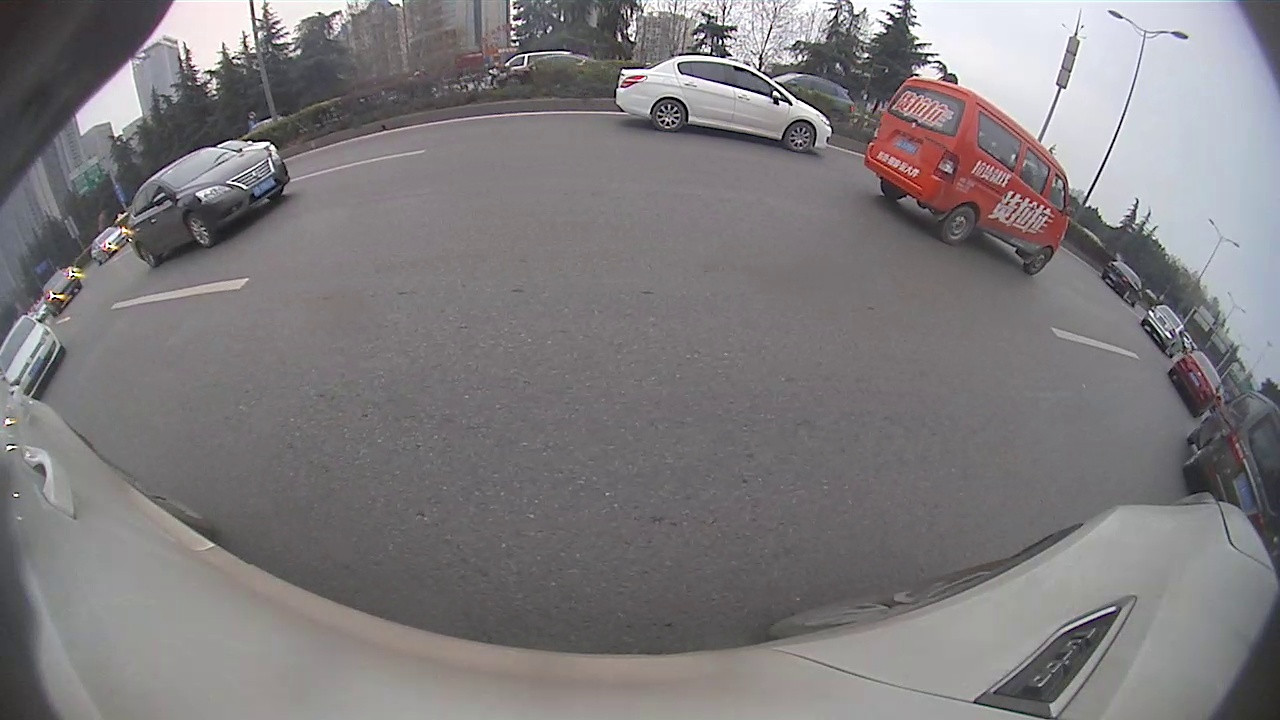car: (861, 73, 1073, 276), (612, 54, 835, 154), (126, 146, 293, 267), (1181, 391, 1277, 550), (3, 314, 62, 402), (1169, 345, 1223, 417), (1139, 303, 1187, 359), (1102, 258, 1144, 309)
front: (782, 121, 816, 155), (186, 209, 213, 251), (1023, 247, 1052, 277)
rear: (939, 205, 977, 247), (650, 101, 686, 133), (137, 244, 159, 270)
